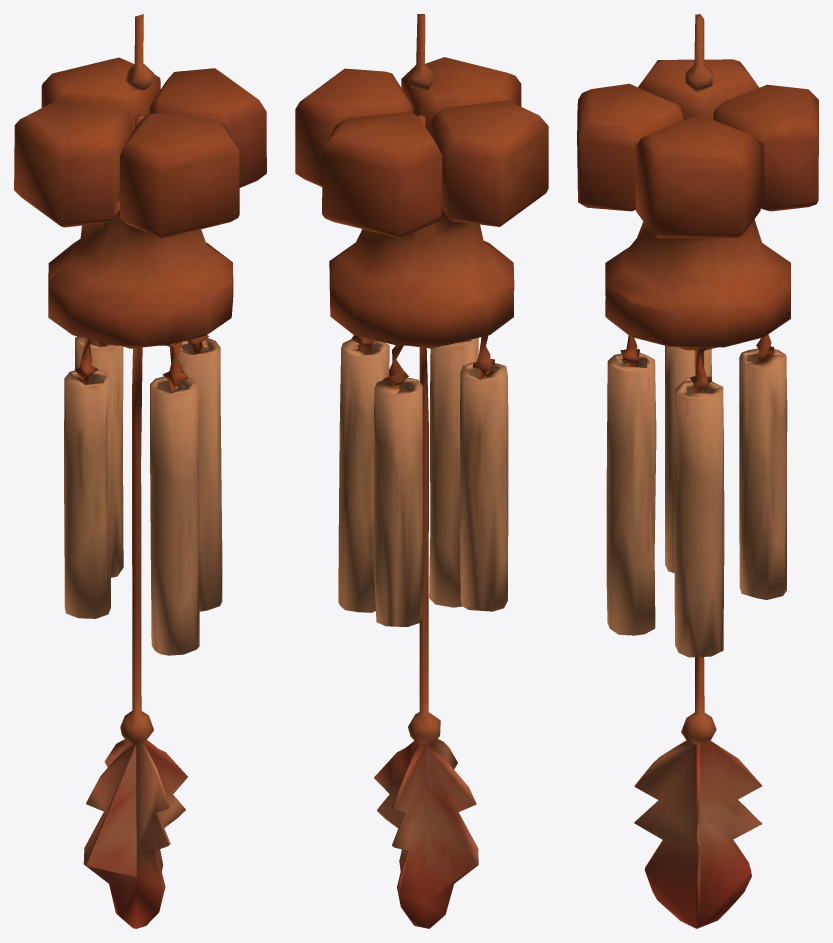
The model's file is sz-chime-totem.glb.
The picture shows the model from 3 angles, left to right: view 1: azimuth 30°, elevation 25°; view 2: azimuth 150°, elevation 25°; view 3: azimuth 270°, elevation 25°; orthographic projection.
Parts seen in each view (by area): view 1: geometry_0; view 2: geometry_0; view 3: geometry_0.
Boxes of the visible parts, <box> form: geometry_0: <box>14,14,266,928</box>; geometry_0: <box>295,14,548,928</box>; geometry_0: <box>577,14,818,928</box>.
Bounding box in the file's own units: 0.2396 × 1 × 0.2393.
Materials: 1 (1 with a texture image).
